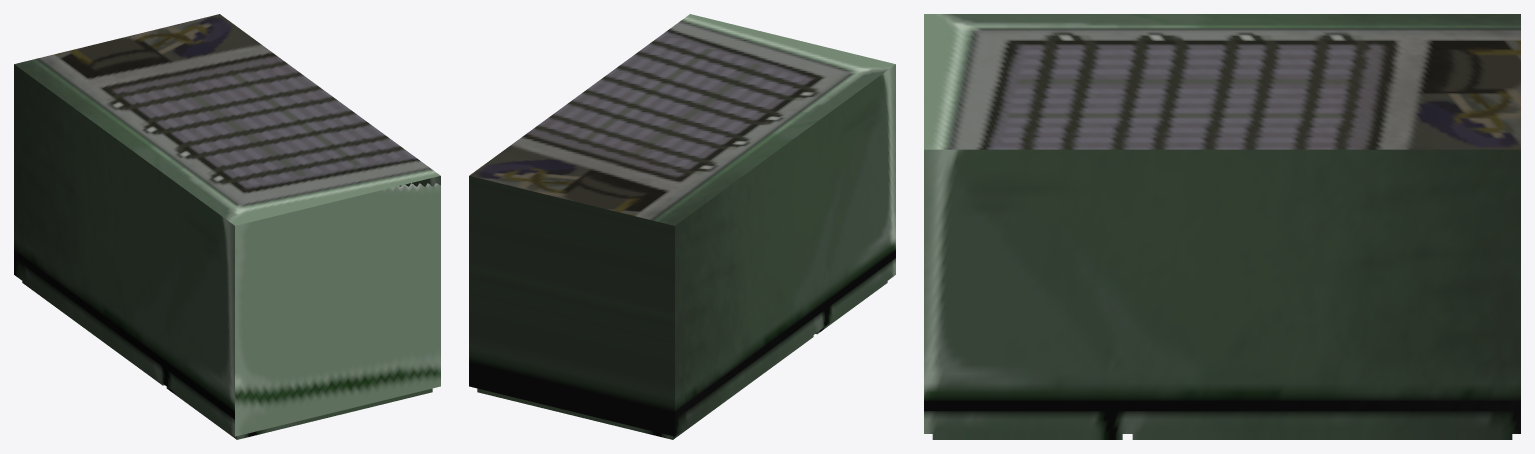
Rendered from pz_fridge_green.obj.
3 views of the same model, side by side, from view 1: azimuth 30°, elevation 25°; view 2: azimuth 150°, elevation 25°; view 3: azimuth 270°, elevation 25° (orthographic). The views are drawn at different scales.
Size of the model in its own units: 0.94 by 0.95 by 1.75.
Materials: 1 (1 with a texture image).
